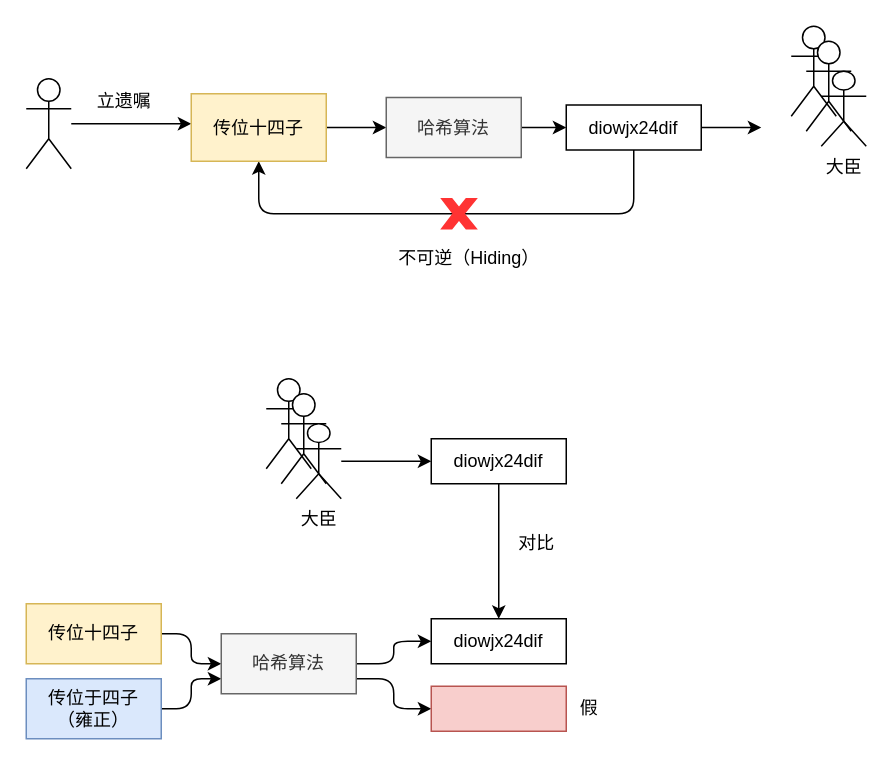
This 893x765 diagram has some shape labels left out. The shapes that lost their labels are listed below. From the top down, each one's centre as x and y in pixels, then its label:
At (x=48, y=123): "康熙".
At (x=498, y=708): "Crewvdfg35".
